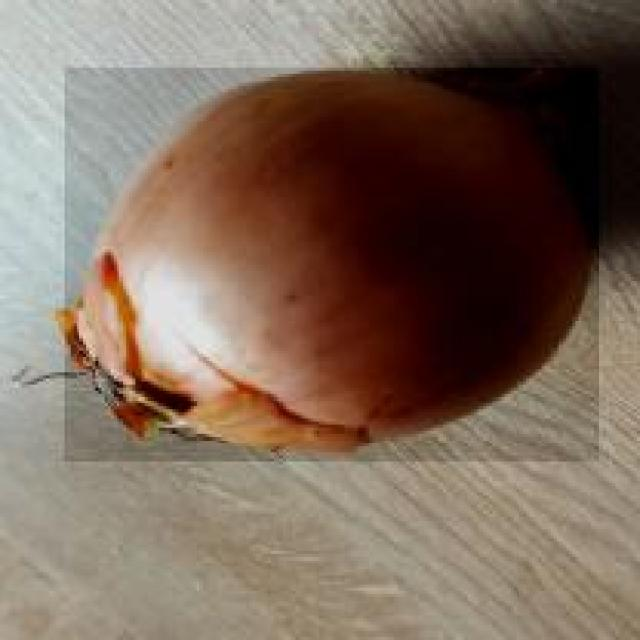onion: (62, 64, 600, 462)
